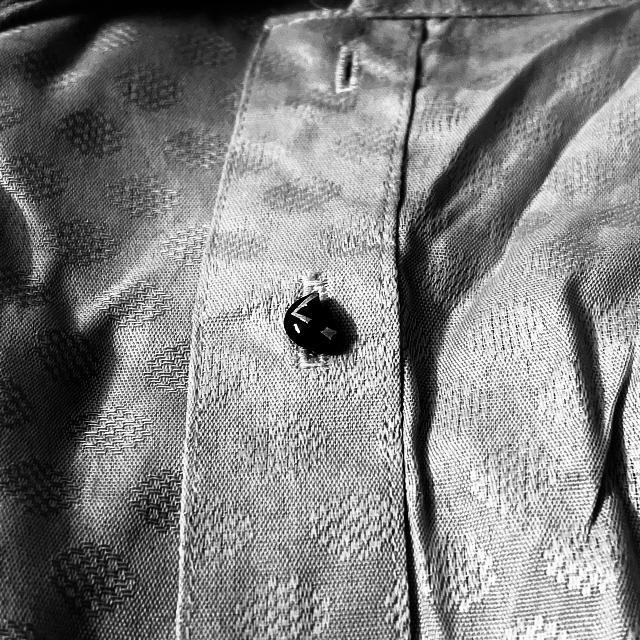Broken_button: (267, 280, 356, 367)
